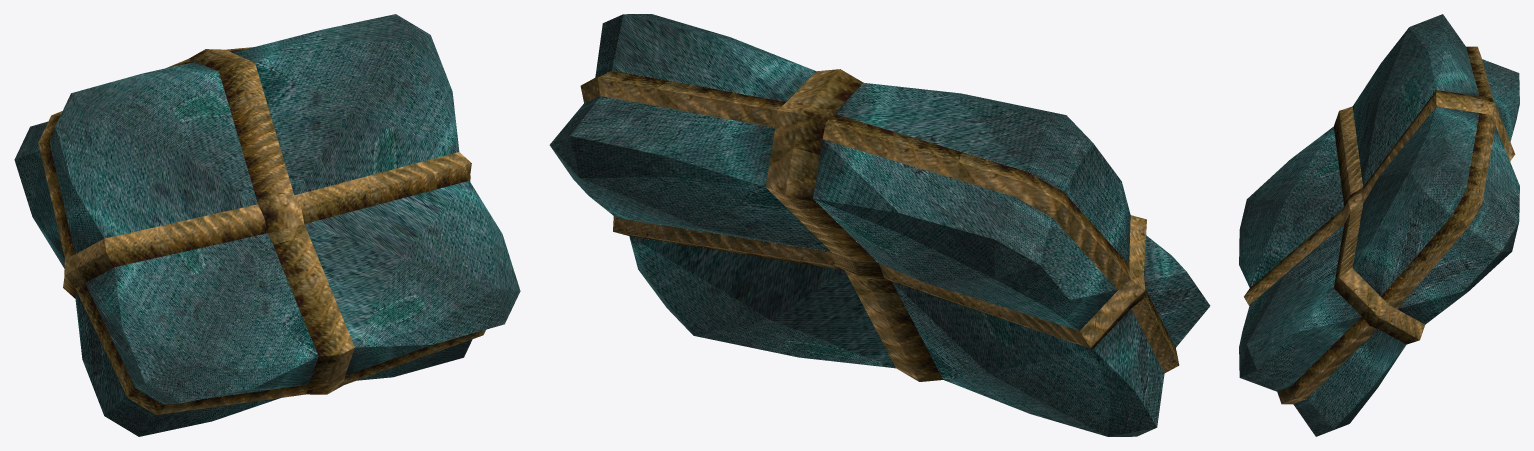
File: KM_ITMI_PACKET_02.glb
The picture shows the model from 3 angles, left to right: view 1: azimuth 30°, elevation 25°; view 2: azimuth 150°, elevation 25°; view 3: azimuth 270°, elevation 25°; orthographic projection. The views are drawn at different scales.
Visible parts, largest first — view 1: KM_ITMI_PACKET_02; view 2: KM_ITMI_PACKET_02; view 3: KM_ITMI_PACKET_02.
Boxes of the visible parts, <box> form: KM_ITMI_PACKET_02: <box>14,14,520,436</box>; KM_ITMI_PACKET_02: <box>549,14,1210,436</box>; KM_ITMI_PACKET_02: <box>1239,14,1519,436</box>.
Size of the model in its own units: 0.4578 by 0.3186 by 0.2933.
2 materials, 2 textured.
